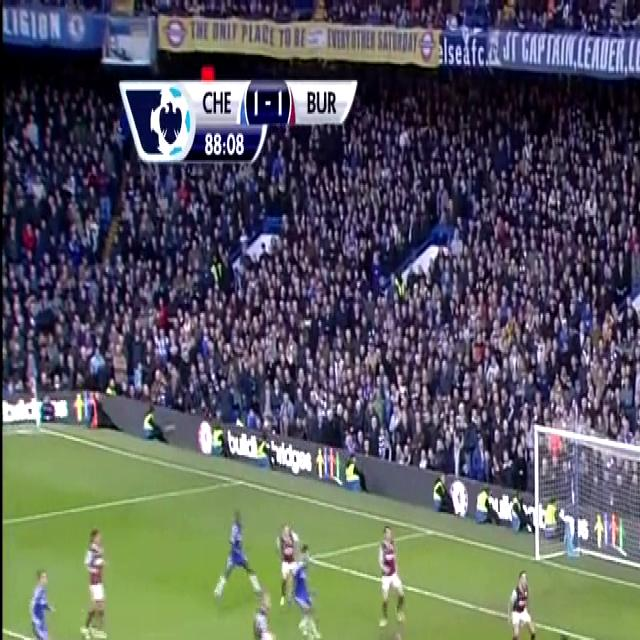soccer-player: (215, 499, 262, 606), (76, 514, 113, 640), (375, 516, 413, 634), (288, 533, 320, 640), (501, 560, 540, 640), (22, 558, 60, 640), (274, 516, 306, 609), (248, 583, 291, 640), (546, 627, 594, 640), (383, 627, 418, 640)
